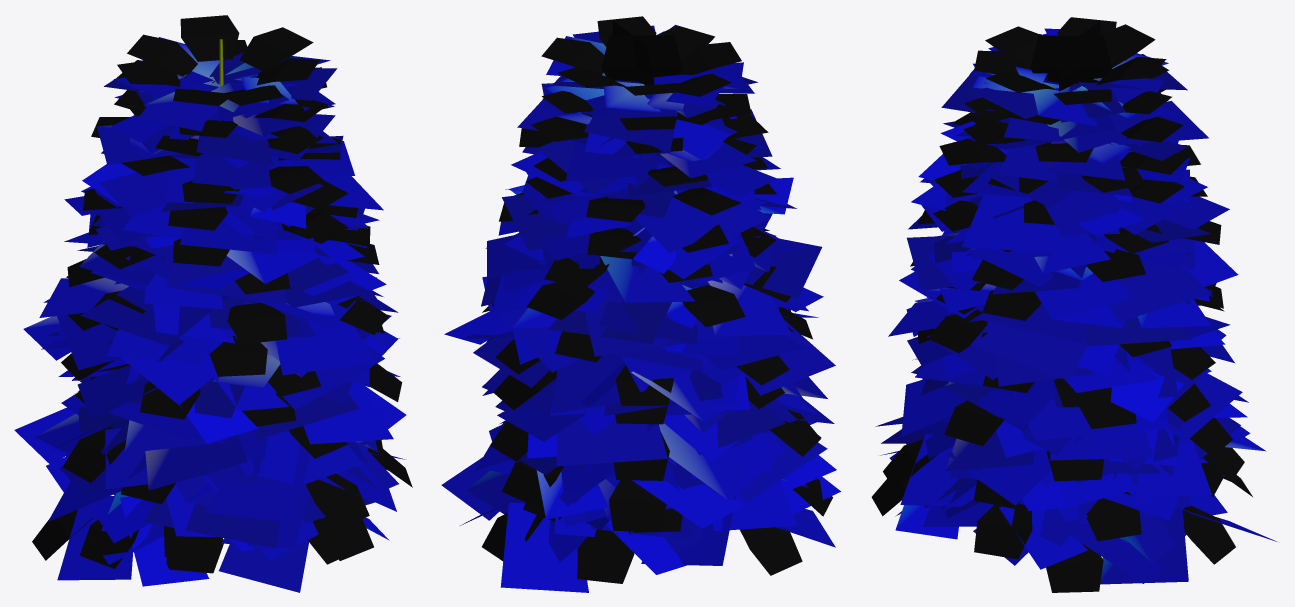
Rendered from tree_young_2.glb.
3 renders of one model, left to right at view 1: azimuth 30°, elevation 25°; view 2: azimuth 150°, elevation 25°; view 3: azimuth 270°, elevation 25°, orthographic.
Visible parts, largest first — view 1: lod1_young_2; view 2: lod1_young_2; view 3: lod1_young_2.
Boxes of the visible parts, x1,y1,x2,y2 form: lod1_young_2: (14,15,412,592); lod1_young_2: (441,16,840,592); lod1_young_2: (871,17,1277,592).
Size of the model in its own units: 3.36 by 4.64 by 3.41.
